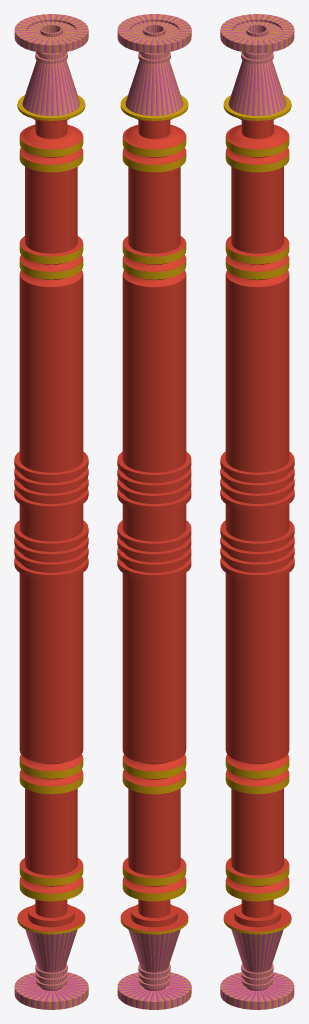
File: Hilt Double.fbx
The picture shows the model from 3 angles, left to right: view 1: azimuth 90°, elevation 25°; view 2: azimuth 150°, elevation 25°; view 3: azimuth 270°, elevation 25°; orthographic projection.
Visible parts, largest first — view 1: Hilt; view 2: Hilt; view 3: Hilt.
Part boxes in pixels (left/top/right/bottom): Hilt: left=14, top=14, right=88, bottom=1009; Hilt: left=117, top=14, right=191, bottom=1009; Hilt: left=220, top=14, right=294, bottom=1009.
Bounding box in the file's own units: 3.74 × 53.71 × 3.75.
